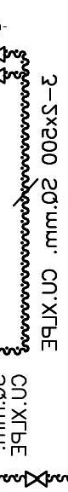terminator_splicing_kits: (24, 470, 48, 488)
